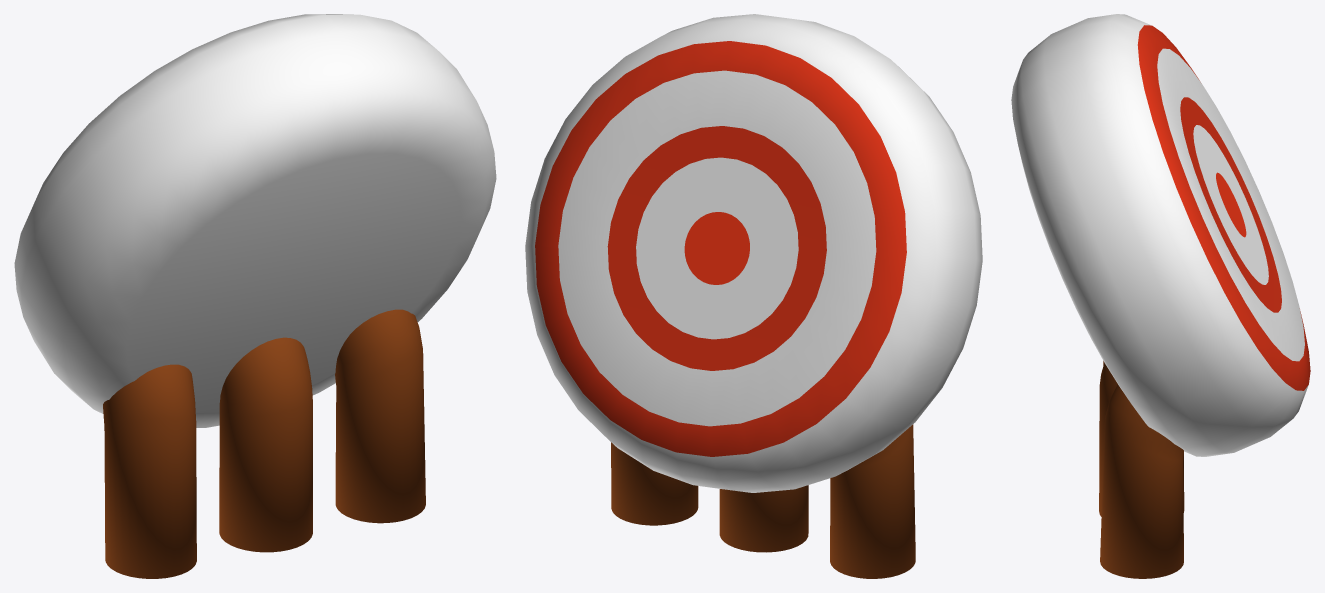
Rendered from trap_target.glb.
3 views of the same model, side by side, from view 1: azimuth 30°, elevation 25°; view 2: azimuth 150°, elevation 25°; view 3: azimuth 270°, elevation 25° (orthographic). The views are drawn at different scales.
Visible parts, largest first — view 1: Cylinder.006_visual; view 2: Cylinder.006_visual; view 3: Cylinder.006_visual.
Boxes of the visible parts, box(x1,y1,x2,y2) form: Cylinder.006_visual: box(14, 14, 496, 578); Cylinder.006_visual: box(525, 14, 982, 578); Cylinder.006_visual: box(1011, 14, 1310, 578).
Size of what is drawn, in the model's own units: 2.43 by 2.8 by 1.59.
Materials: 1 (1 with a texture image).
